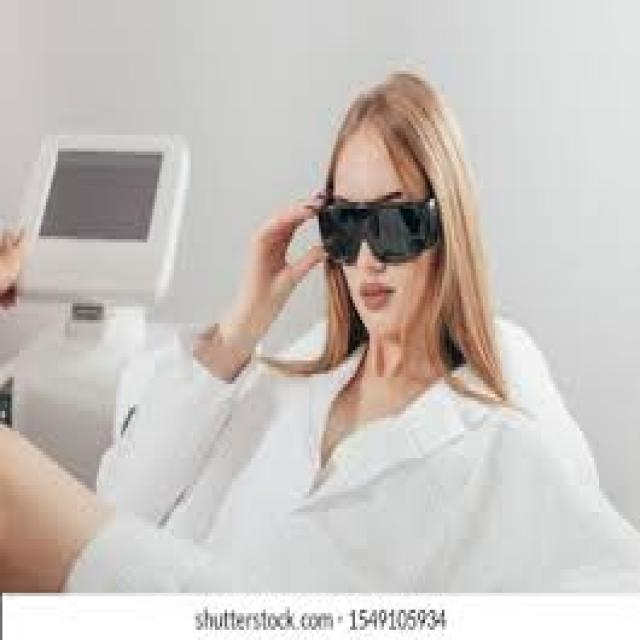Glasses: (300, 188, 445, 273)
